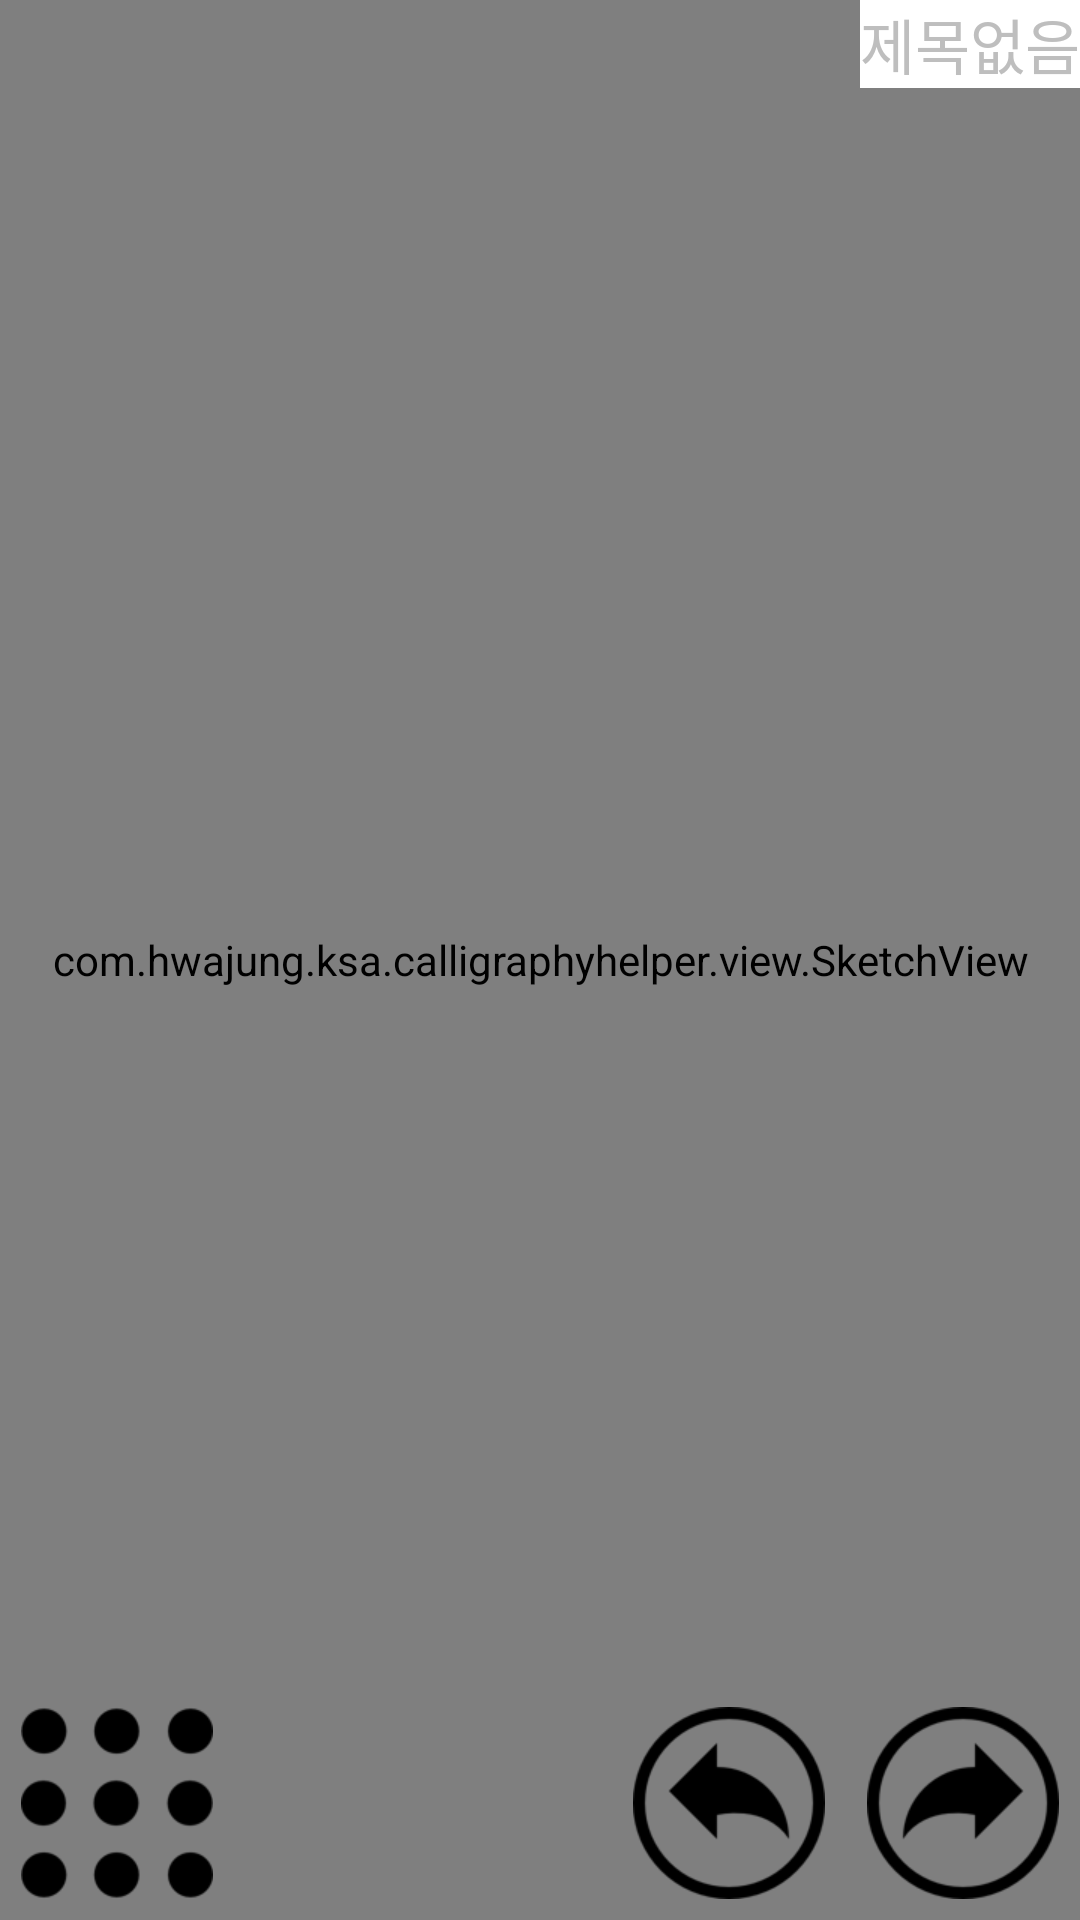

Where to tap for icons on this 1080×1920 app screen, as (x,y):
sketch menu: (117,1803)
sketch redo: (963,1803)
sketch undo: (729,1803)
